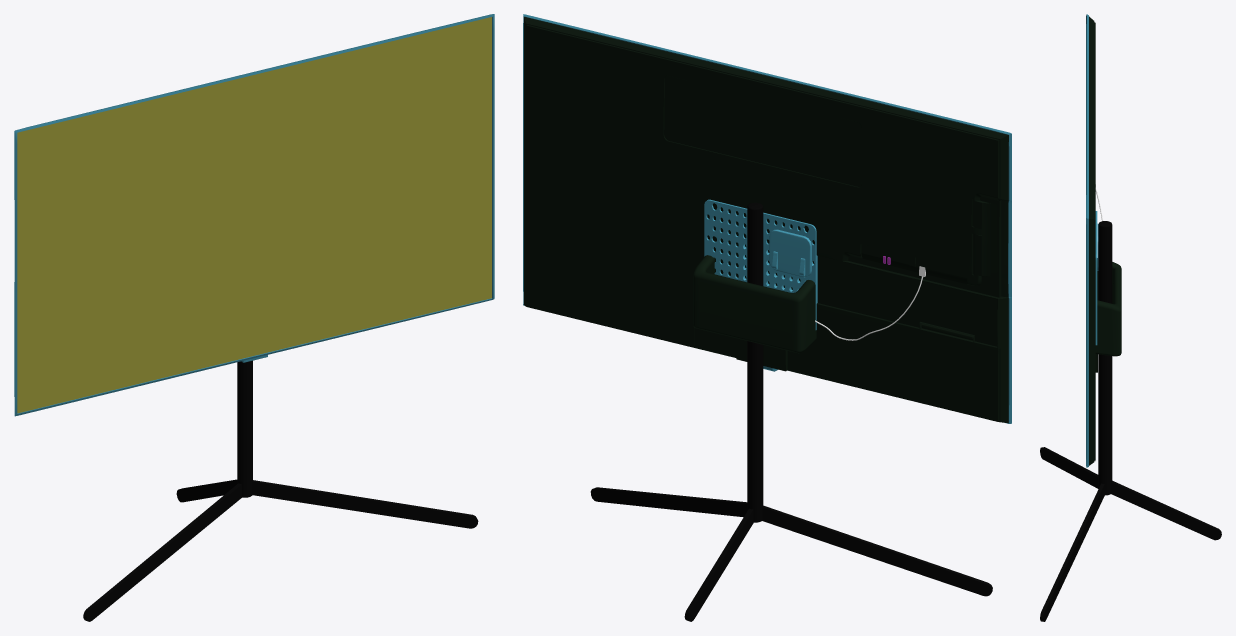
3 renders of one model, left to right at view 1: azimuth 30°, elevation 25°; view 2: azimuth 150°, elevation 25°; view 3: azimuth 270°, elevation 25°, orthographic. The views are drawn at different scales.
Parts seen in each view (by area): view 1: TV, Stand; view 2: TV, Stand; view 3: Stand, TV.
Part boxes in pixels (<box>): TV: <box>14,14,494,416</box>; Stand: <box>83,360,478,621</box>; TV: <box>523,14,1011,423</box>; Stand: <box>590,199,992,621</box>; Stand: <box>1040,184,1221,621</box>; TV: <box>1086,14,1097,467</box>.
Size of the model in its own units: 1.23 by 1.18 by 0.4598.
